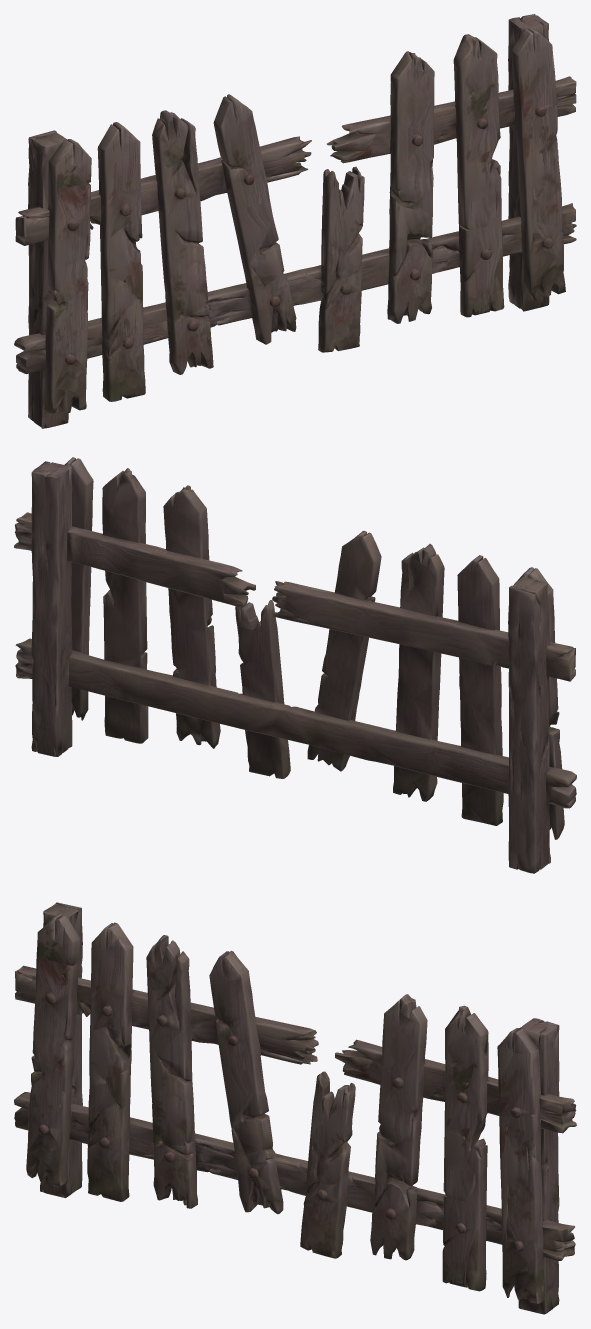
The model's file is ext_fence_wood_b_idle.glb.
3 renders of one model, top to bottom at view 1: azimuth 30°, elevation 25°; view 2: azimuth 150°, elevation 25°; view 3: azimuth 330°, elevation 25°, orthographic.
Visible parts, largest first — view 1: tripo_node_c68ef5d3-4edb-4001-ba54-85546bc40726; view 2: tripo_node_c68ef5d3-4edb-4001-ba54-85546bc40726; view 3: tripo_node_c68ef5d3-4edb-4001-ba54-85546bc40726.
Boxes of the visible parts, x1,y1,x2,y2 form: tripo_node_c68ef5d3-4edb-4001-ba54-85546bc40726: [14, 14, 576, 428]; tripo_node_c68ef5d3-4edb-4001-ba54-85546bc40726: [14, 457, 576, 873]; tripo_node_c68ef5d3-4edb-4001-ba54-85546bc40726: [14, 902, 576, 1314].
Bounding box in the file's own units: 3.01 × 1.5 × 0.2776.
Materials: 1 (1 with a texture image).
